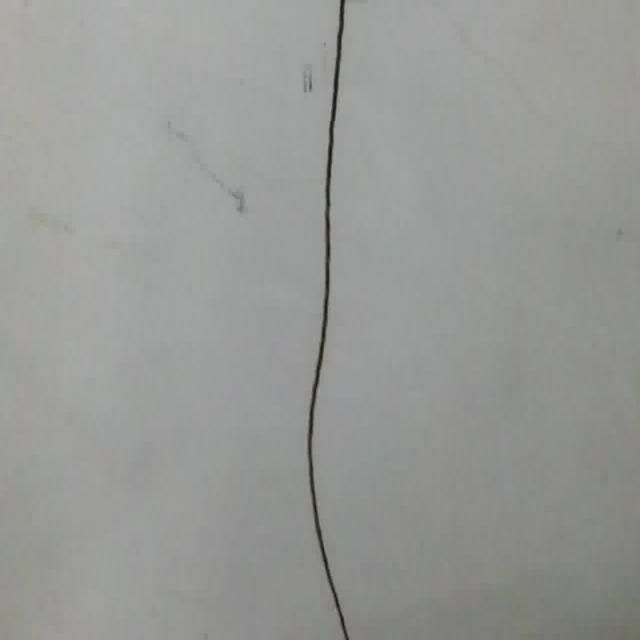Crack: (287, 0, 370, 640), (372, 0, 584, 115)
